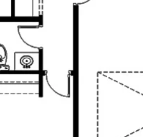door: (44, 66, 73, 104), (15, 23, 53, 51)
